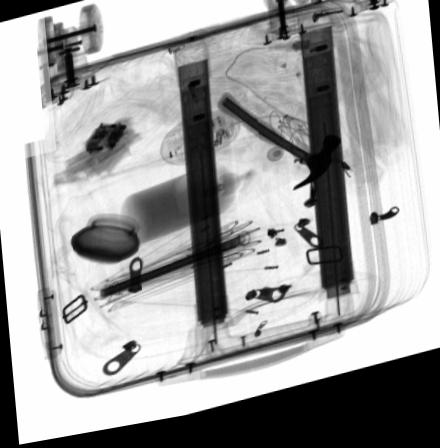Hammer: (215, 100, 341, 202)
